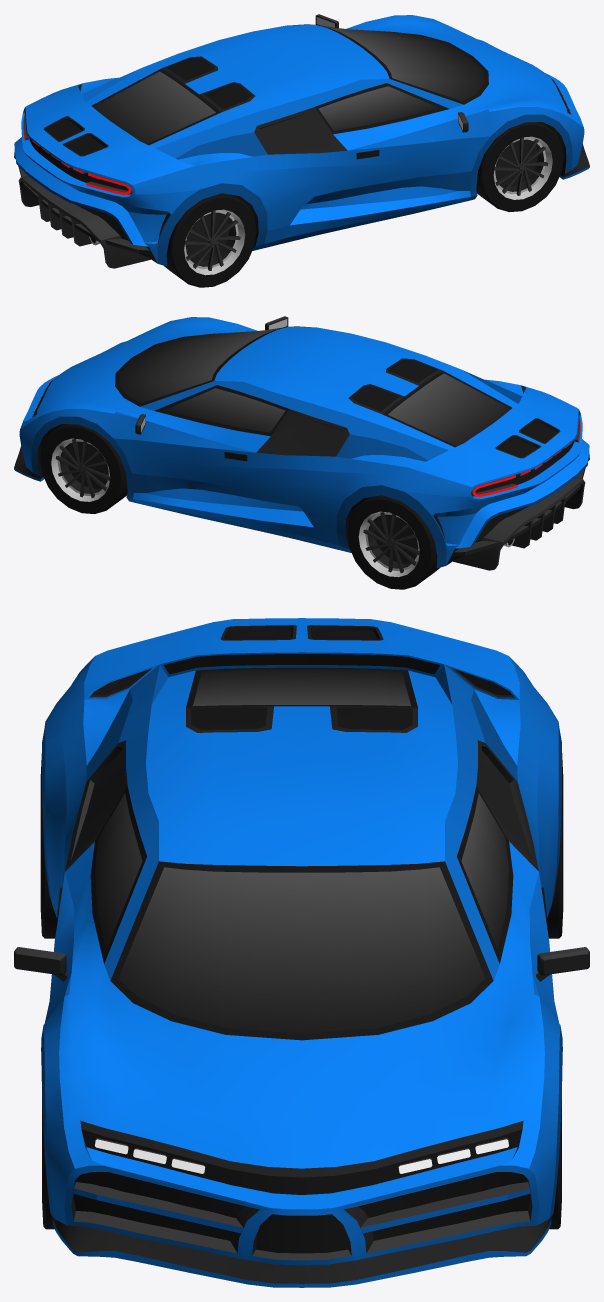
File: Car_074.glb
The picture shows the model from 3 angles, top to bottom: view 1: azimuth 30°, elevation 25°; view 2: azimuth 150°, elevation 25°; view 3: azimuth 270°, elevation 25°; orthographic projection. The views are drawn at different scales.
Visible parts, largest first — view 1: Car_074, wheel_3_Car_074_Wheel_2R, wheel_1_Car_074_Wheel_1R; view 2: Car_074, wheel_2_Car_074_Wheel_2L, wheel_0_Car_074_Wheel_1L; view 3: Car_074, wheel_2_Car_074_Wheel_2L, wheel_3_Car_074_Wheel_2R.
Boxes of the visible parts, bbox=[...] form: Car_074: bbox=[14, 14, 589, 268]; wheel_3_Car_074_Wheel_2R: bbox=[163, 193, 256, 287]; wheel_1_Car_074_Wheel_1R: bbox=[476, 122, 563, 211]; Car_074: bbox=[14, 316, 589, 570]; wheel_2_Car_074_Wheel_2L: bbox=[347, 495, 440, 589]; wheel_0_Car_074_Wheel_1L: bbox=[40, 424, 127, 513]; Car_074: bbox=[14, 618, 589, 1287]; wheel_2_Car_074_Wheel_2L: bbox=[546, 753, 563, 938]; wheel_3_Car_074_Wheel_2R: bbox=[40, 753, 57, 938].
Bounding box in the file's own units: 4.81 × 1.28 × 2.36.
Materials: 3 (3 with a texture image).
